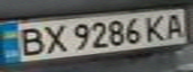2: (87, 18, 112, 50)
6: (124, 15, 148, 44)
8: (106, 17, 127, 47)
9: (69, 20, 93, 52)
A: (160, 10, 190, 39)
B: (9, 25, 48, 57)
K: (139, 11, 172, 43)
X: (39, 21, 69, 55)
